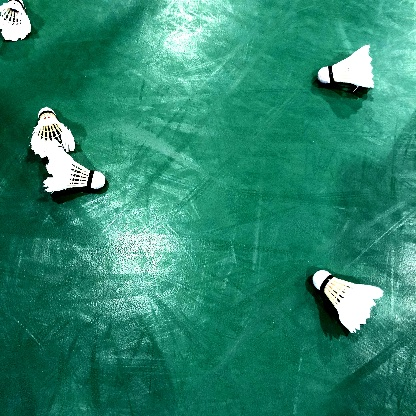ball_single: (312, 270, 384, 333), (43, 146, 105, 192), (318, 45, 374, 88), (30, 107, 75, 158), (0, 0, 31, 42)
